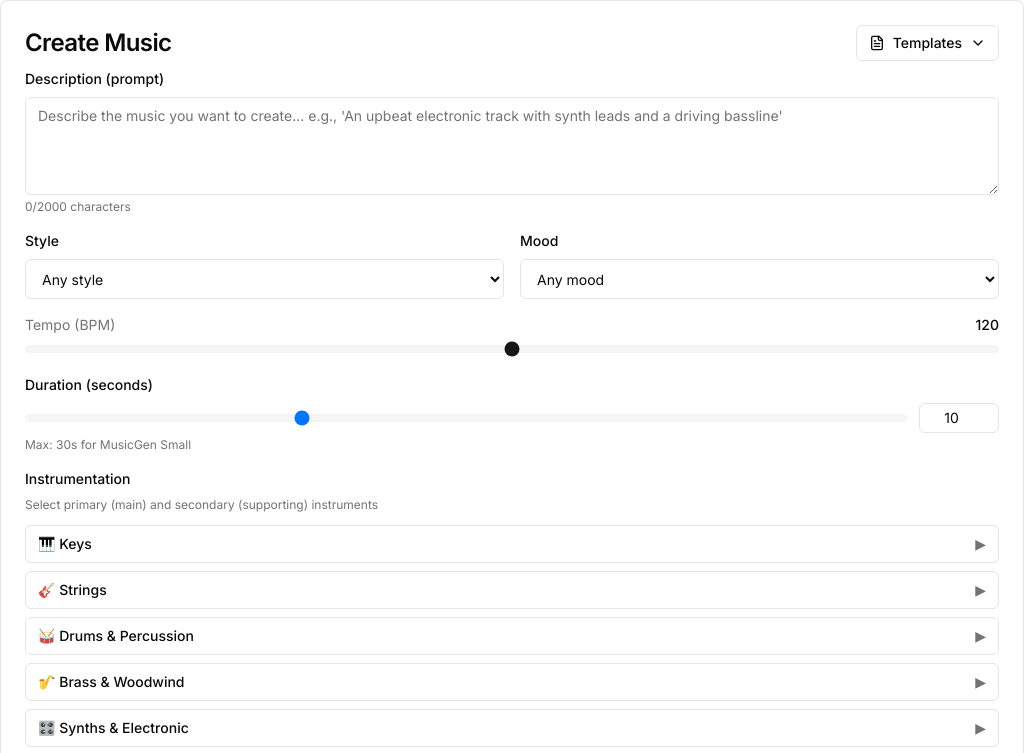
Test: PromptEditor › shows selected instruments summary
The width and height of the screenshot is (1024, 753).
# Expand Keys category
Click the text "🎹 Keys" at (65, 544), box [38,534,92,554]
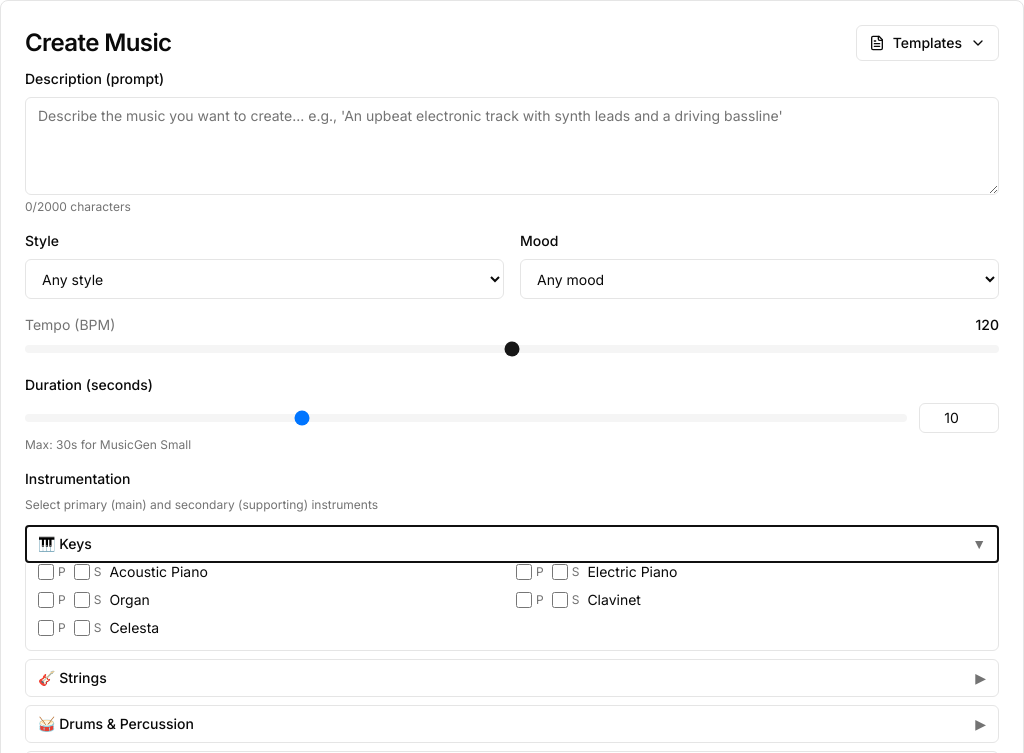
Expected: the text "Acoustic Piano" is shown, [109,562,208,582]
# Select a primary instrument (first checkbox)
Click the checkbox labelled "P" in the row of "Acoustic Piano" at (46, 572), box [38,564,54,580]
(page scrolled)
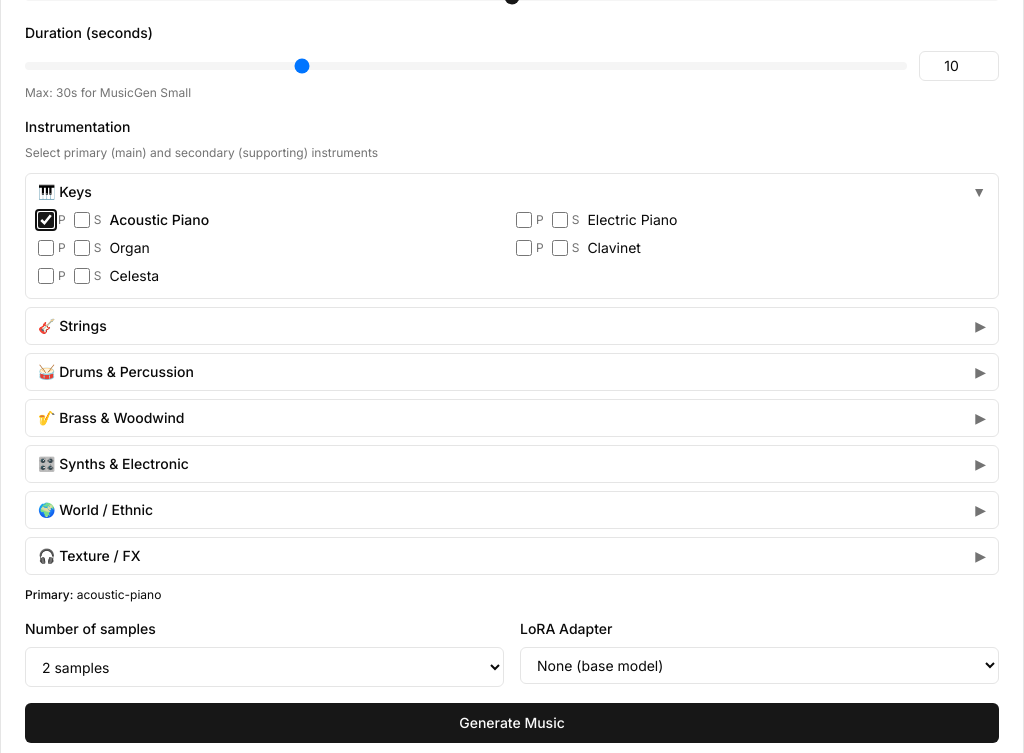
Expected: the text "Primary:" is shown, [25,587,73,602]
